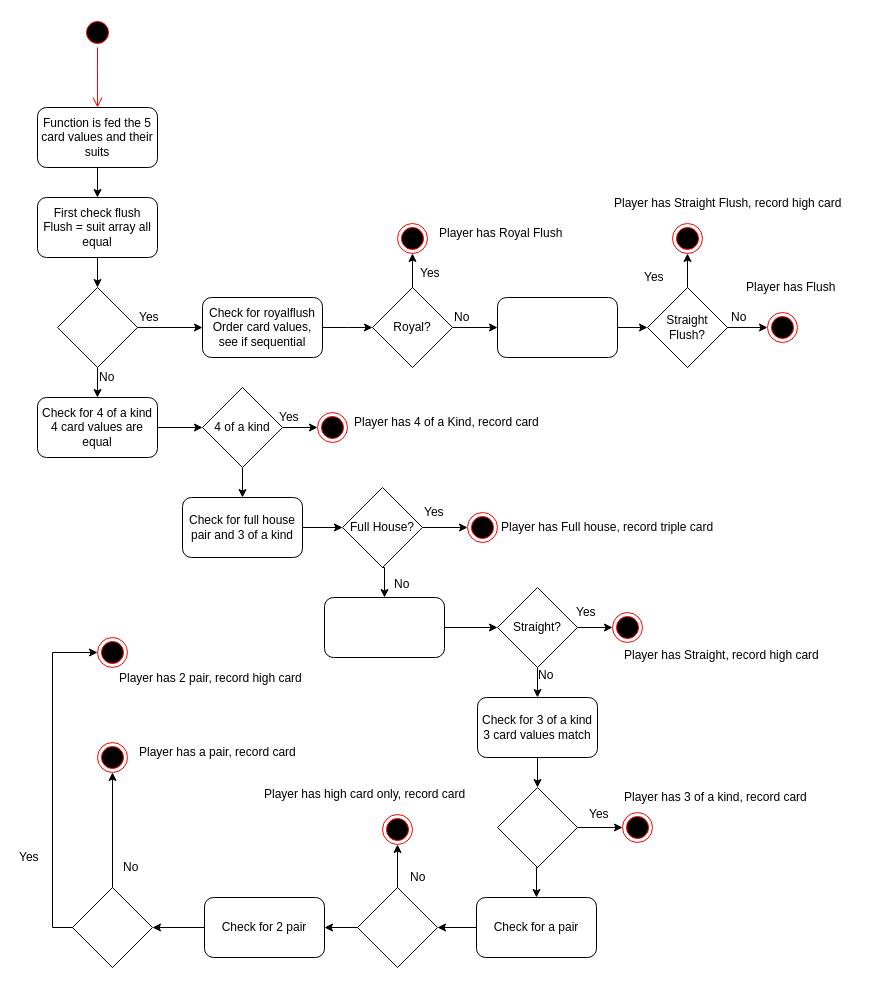
The diagram is 869 pixels wide and 985 high, and some of its shapes have lost their labels. Here are the shapes that lost their labels. From the top down, the centre of each, then its label:
point (97, 327): Flush?
point (557, 327): Check Straight Flush Are the cards still in order sequentially
point (384, 627): Check for straight order card values, check sequence
point (537, 827): 3 of a kind
point (112, 927): 2 Pair?
point (397, 927): Pair
